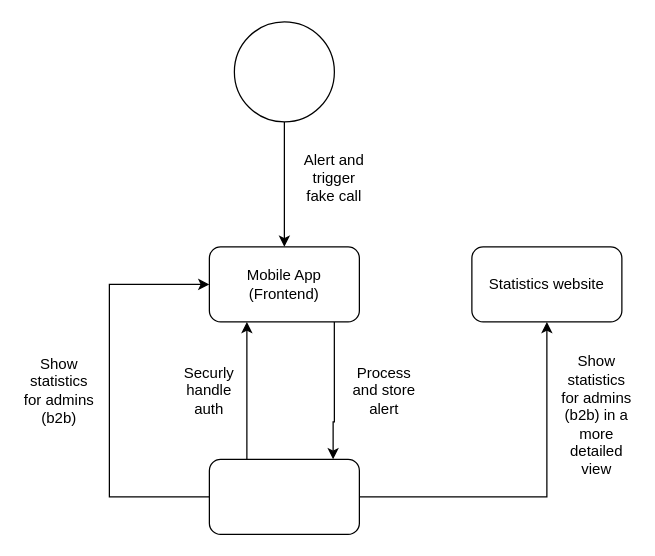
Some shapes in this 655 by 556 pixel diagram are drawn without their labels. Each missing label, with the centre of its shape:
IoT Device: (x=283, y=71)
Server (Backend): (x=283, y=496)
